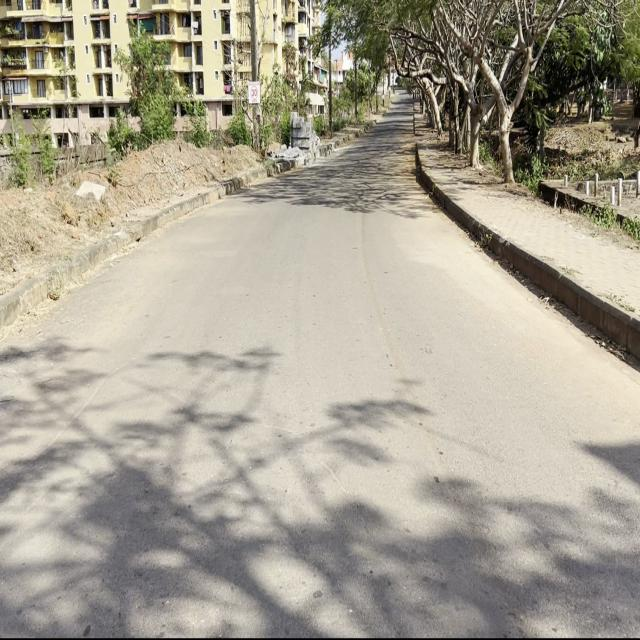Road: (0, 100, 638, 640)
